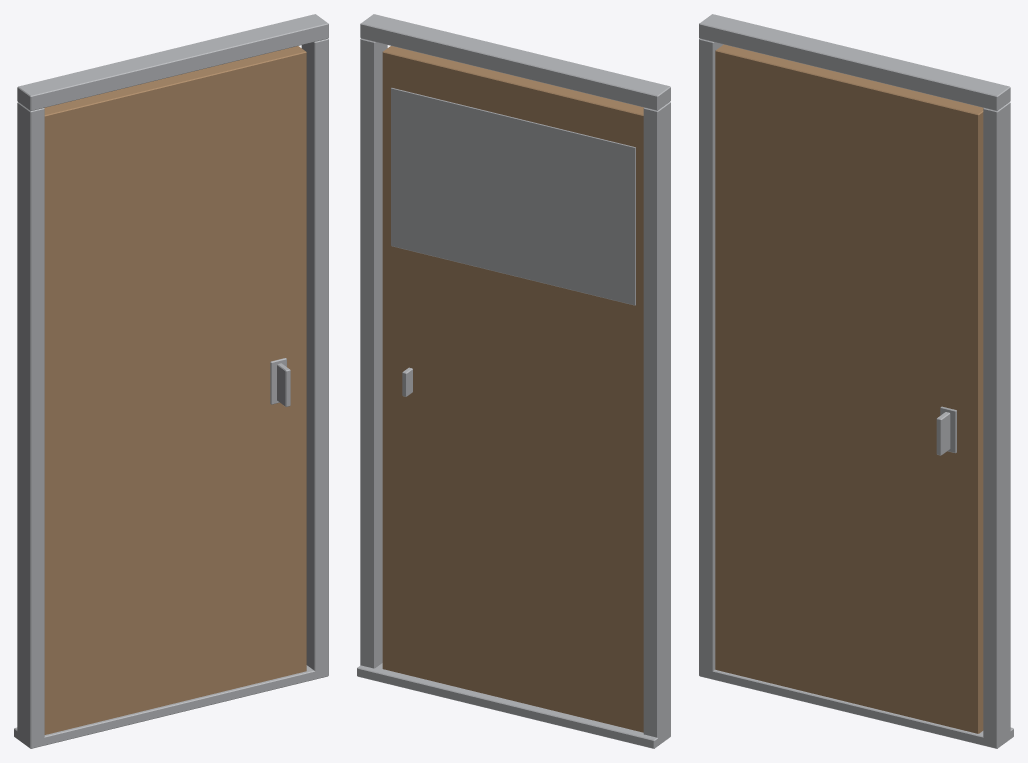
Rendered from prop_door_01.glb.
The picture shows the model from 3 angles, left to right: view 1: azimuth 30°, elevation 25°; view 2: azimuth 150°, elevation 25°; view 3: azimuth 330°, elevation 25°; orthographic projection.
Visible parts, largest first — view 1: prop_door_01; view 2: prop_door_01; view 3: prop_door_01.
Boxes of the visible parts, x1,y1,x2,y2 form: prop_door_01: (14,14,328,748); prop_door_01: (357,14,670,748); prop_door_01: (699,14,1013,748).
Bounding box in the file's own units: 1.02 × 2.13 × 0.1645.
